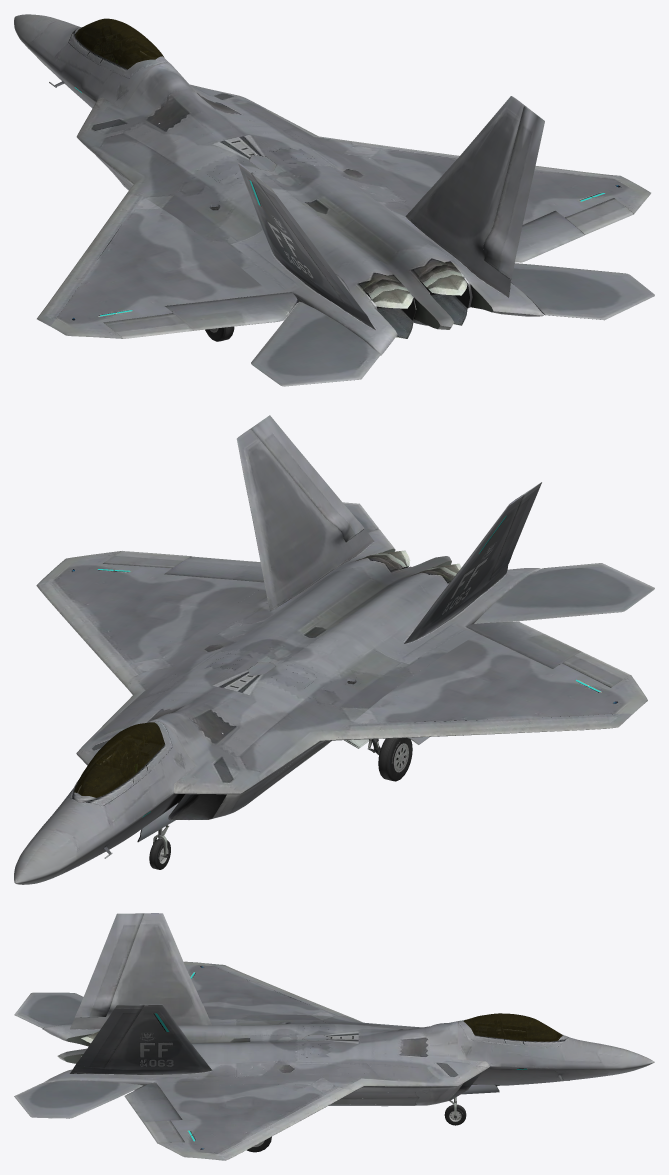
3 renders of one model, top to bottom at view 1: azimuth 30°, elevation 25°; view 2: azimuth 150°, elevation 25°; view 3: azimuth 270°, elevation 25°, orthographic. The views are drawn at different scales.
Parts seen in each view (by area): view 1: Object_12, Object_22, Object_43, Object_115, Object_32; view 2: Object_12, Object_22, Object_115, Object_32, Object_4, Object_43, Object_14; view 3: Object_12, Object_22, Object_115, Object_32, Object_4.
Part boxes in pixels (left/top/right/bottom): Object_12: left=14, top=14, right=543, bottom=355; Object_22: left=37, top=27, right=654, bottom=386; Object_43: left=363, top=264, right=467, bottom=338; Object_115: left=75, top=18, right=164, bottom=68; Object_32: left=68, top=27, right=159, bottom=70; Object_12: left=14, top=429, right=540, bottom=884; Object_22: left=36, top=415, right=654, bottom=842; Object_115: left=74, top=722, right=164, bottom=797; Object_32: left=74, top=722, right=171, bottom=805; Object_4: left=149, top=737, right=412, bottom=869; Object_43: left=153, top=550, right=461, bottom=857; Object_14: left=168, top=667, right=250, bottom=820; Object_12: left=42, top=913, right=654, bottom=1106; Object_22: left=14, top=913, right=568, bottom=1160; Object_115: left=463, top=1013, right=562, bottom=1041; Object_32: left=464, top=1020, right=561, bottom=1041; Object_4: left=247, top=1104, right=466, bottom=1152.
Size of what is drawn, in the model's own units: 13.66 by 5.39 by 18.91.
27 materials, 24 textured.
